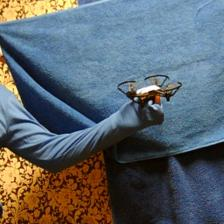drone: (118, 73, 183, 106)
